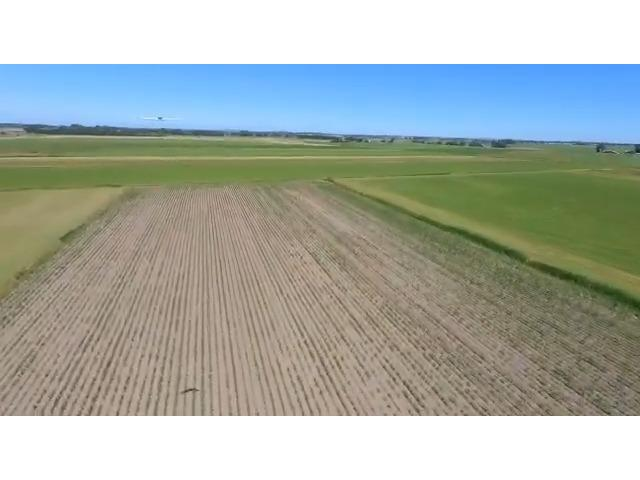Anti-Drone: (131, 106, 185, 126)
